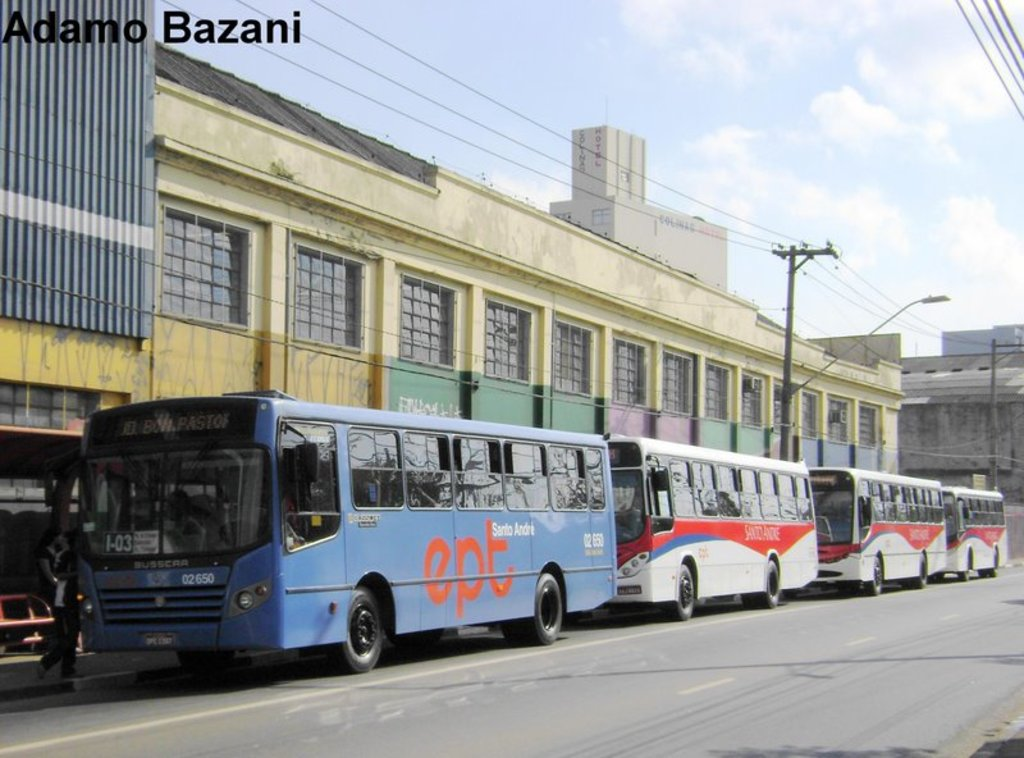Bus: (81, 386, 622, 674), (601, 430, 816, 624), (807, 464, 949, 595), (944, 481, 1013, 583)
